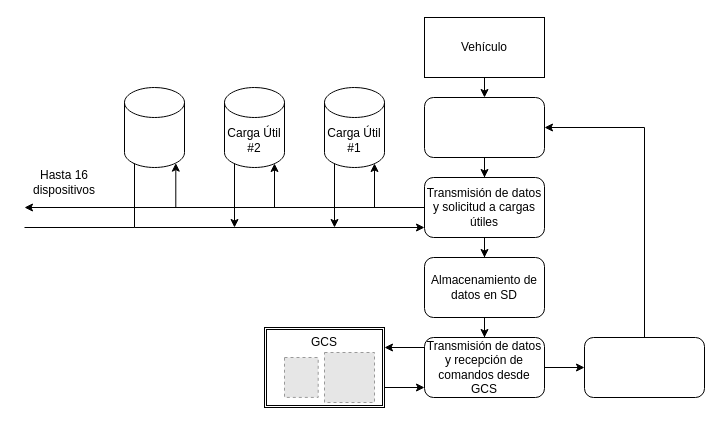
The diagram is 722 pixels wide and 425 high, and some of its shapes have lost their labels. Grey dashed boxes stand in for pictures. Here are the shapes that lost their labels. From the top down, the centre of each, then its label:
At (x=154, y=127): "Carga Útil #n".
At (x=484, y=127): "Obtención de datos de sensores, filtrado y procesado".
At (x=644, y=367): "Procesamiento de comandos".
